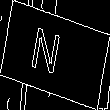N_S: (37, 26, 73, 84)
